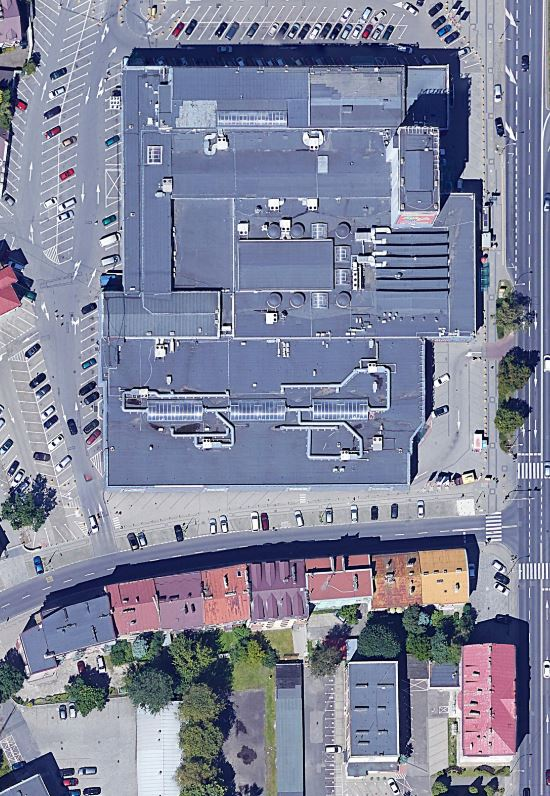block of flats: (15, 530, 493, 681), (451, 638, 526, 774), (337, 651, 406, 768)
garage: (269, 653, 307, 796)
shopping_center: (98, 42, 491, 499)
